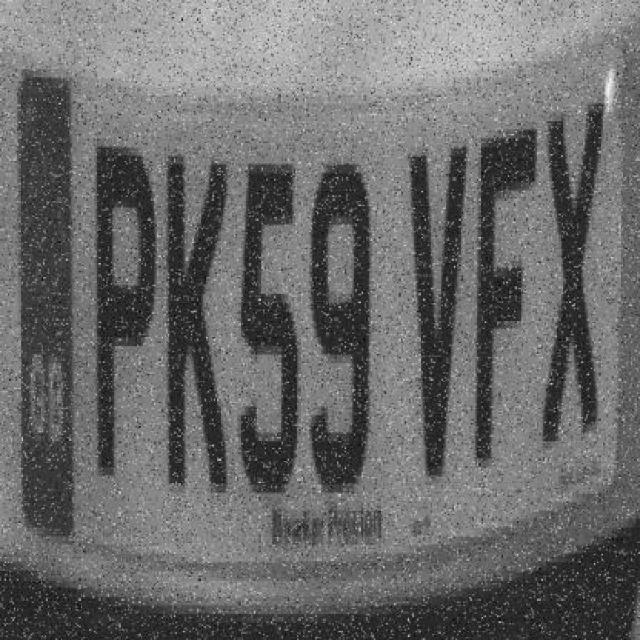licenseplate: (12, 15, 632, 573)
